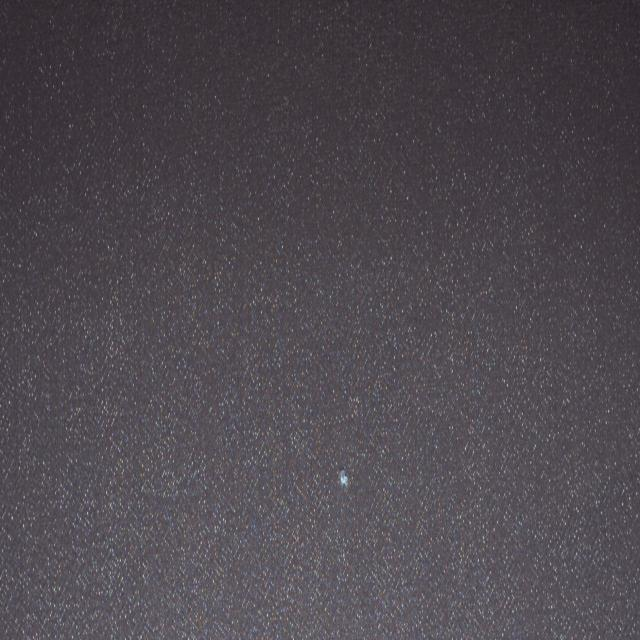Knot: (339, 470, 350, 488)
